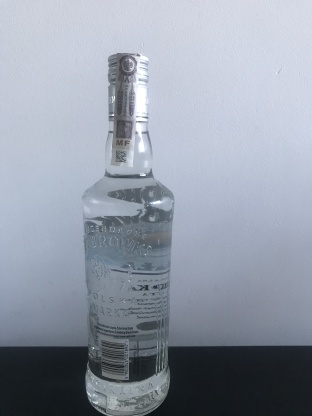nakretka: (105, 50, 151, 126)
